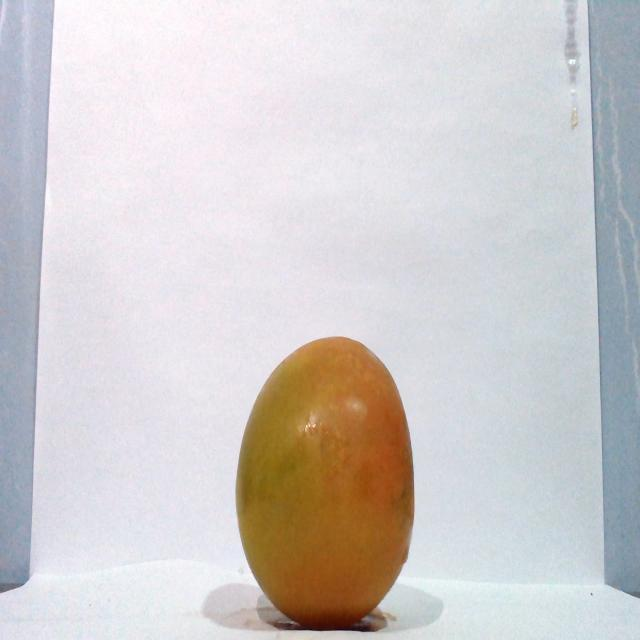Red: (233, 334, 416, 628)
